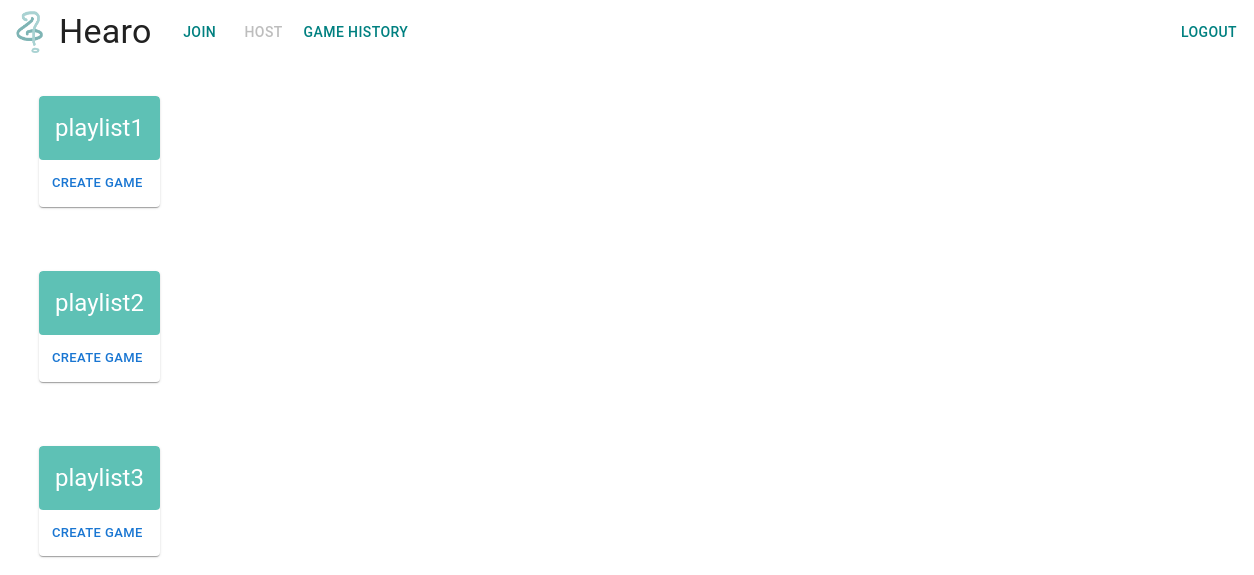
Test case: <HostDashboard/> › can see songs after clicking on a playlist card
Click the button "playlist1": (100, 128) [39,96,160,160]
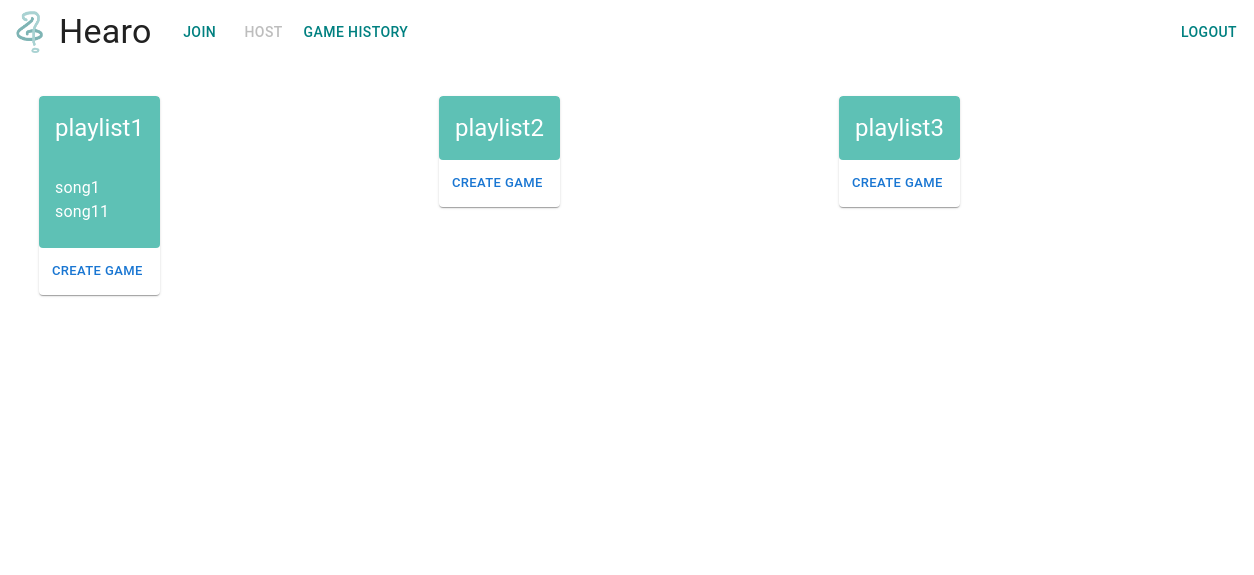
Expected: the text "song1" is shown, [55,178,100,197]
Expected: the text "song11" is shown, [55,202,109,221]
